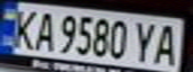0: (109, 17, 133, 61)
5: (72, 12, 96, 56)
8: (90, 15, 112, 58)
9: (54, 10, 78, 55)
A: (151, 20, 187, 66), (30, 8, 60, 52)
K: (6, 6, 42, 51)
Y: (130, 19, 160, 63)
